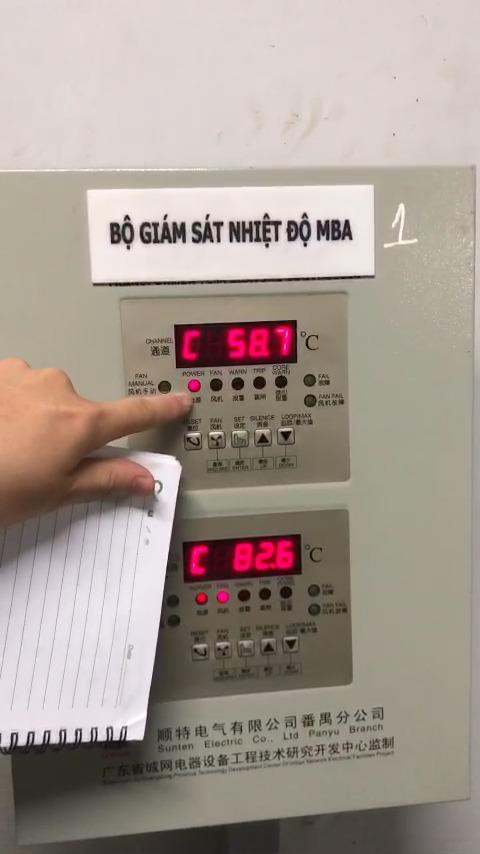led: (165, 595, 180, 609), (274, 375, 288, 389), (252, 376, 266, 390), (231, 377, 245, 391), (209, 378, 223, 392), (187, 379, 201, 393), (158, 381, 172, 395), (303, 394, 317, 408), (217, 590, 231, 604), (195, 592, 209, 606), (307, 603, 321, 617), (303, 374, 316, 388), (307, 584, 320, 598), (258, 587, 271, 601), (237, 589, 251, 602), (279, 586, 292, 599), (167, 615, 180, 628)
